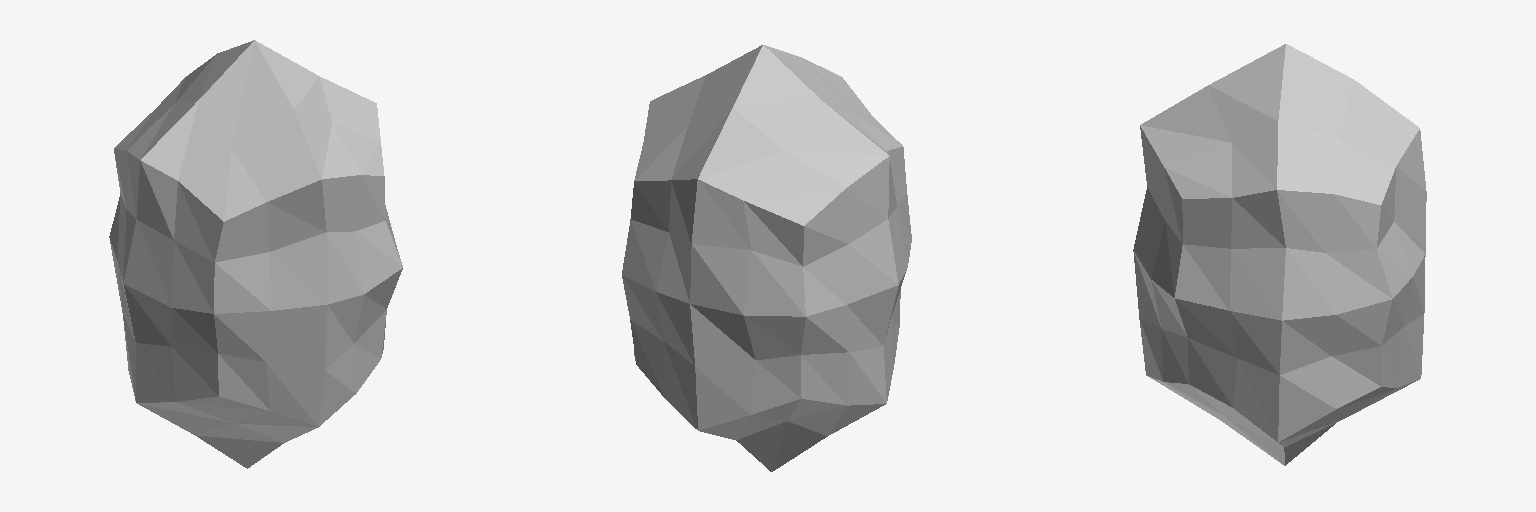
Rendered from UpperHand.obj.
The picture shows the model from 3 angles: view 1: azimuth 30°, elevation 25°; view 2: azimuth 150°, elevation 25°; view 3: azimuth 270°, elevation 25°; orthographic projection.
Parts seen in each view (by area): view 1: Cube.007_Cube.008; view 2: Cube.007_Cube.008; view 3: Cube.007_Cube.008.
Boxes of the visible parts, x1=… form: Cube.007_Cube.008: x1=109, y1=40, x2=402, y2=468; Cube.007_Cube.008: x1=622, y1=45, x2=911, y2=471; Cube.007_Cube.008: x1=1133, y1=44, x2=1426, y2=465.
Size of the model in its own units: 0.8267 by 1.28 by 0.7975.